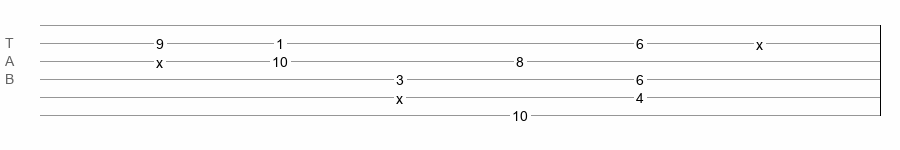1: (276, 36, 284, 46)
10: (272, 54, 288, 64), (512, 108, 528, 118)
3: (396, 72, 404, 82)
4: (636, 90, 644, 100)
6: (636, 36, 644, 46), (636, 72, 644, 82)
8: (516, 54, 524, 64)
9: (156, 36, 164, 46)
x: (156, 55, 163, 63), (396, 91, 403, 99), (756, 37, 763, 45)
